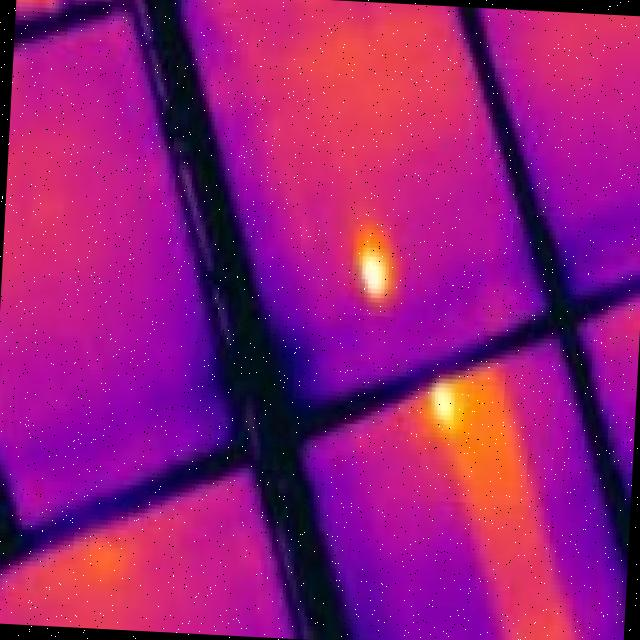Hotspot: (358, 247, 390, 298), (430, 382, 459, 424)
